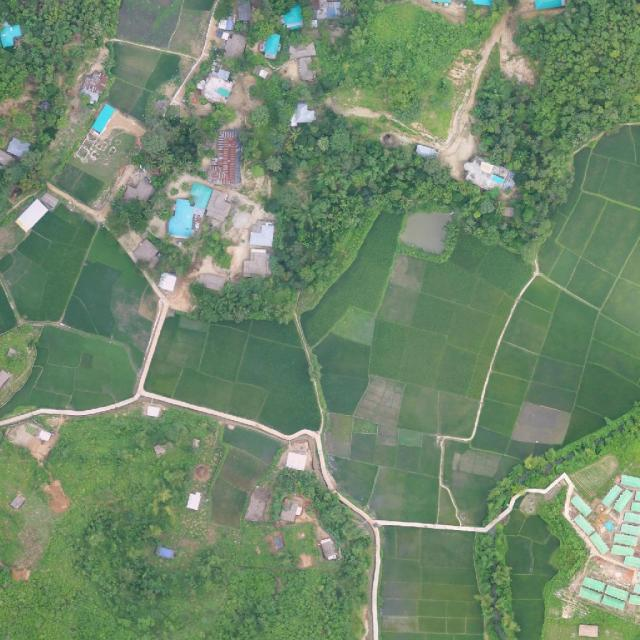agricultural_land: (0, 410, 365, 640), (0, 205, 156, 415), (144, 289, 340, 439)
greenland: (0, 430, 341, 640), (181, 54, 414, 308)
metalled_road: (131, 352, 353, 490), (371, 472, 577, 558), (0, 392, 142, 430), (145, 301, 170, 358), (370, 524, 382, 640)
